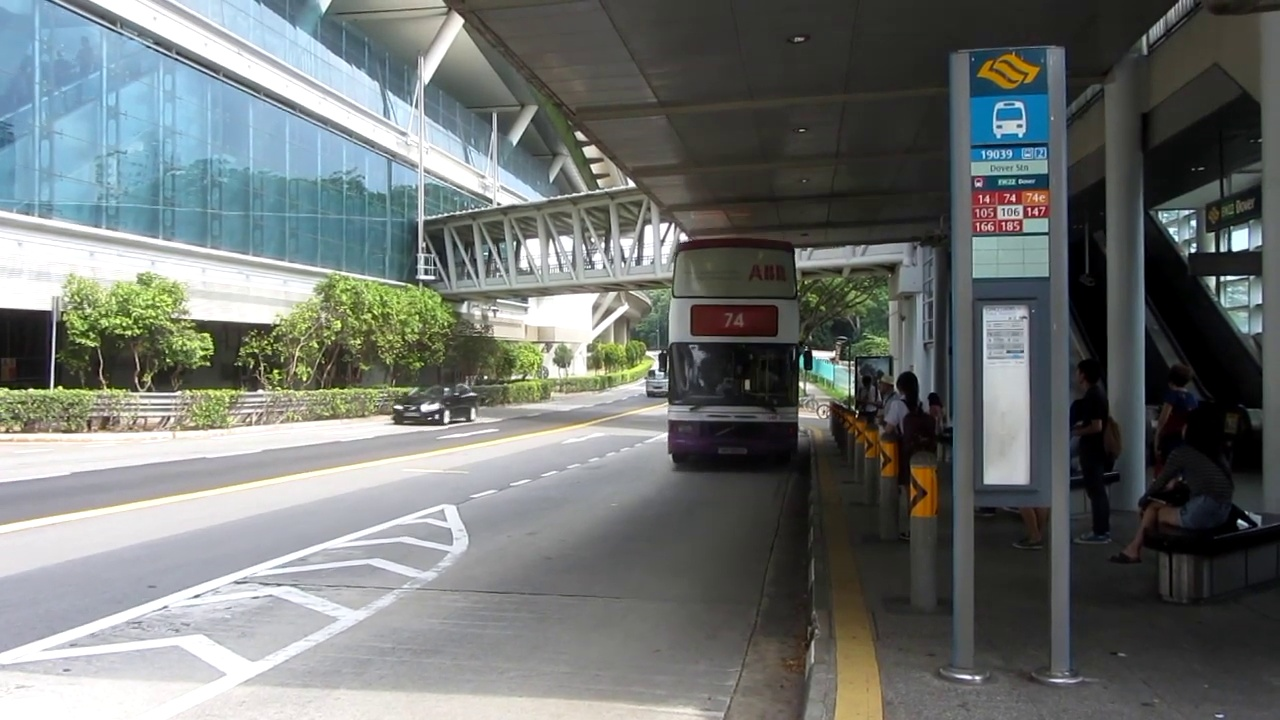bus panel: (689, 303, 780, 338)
